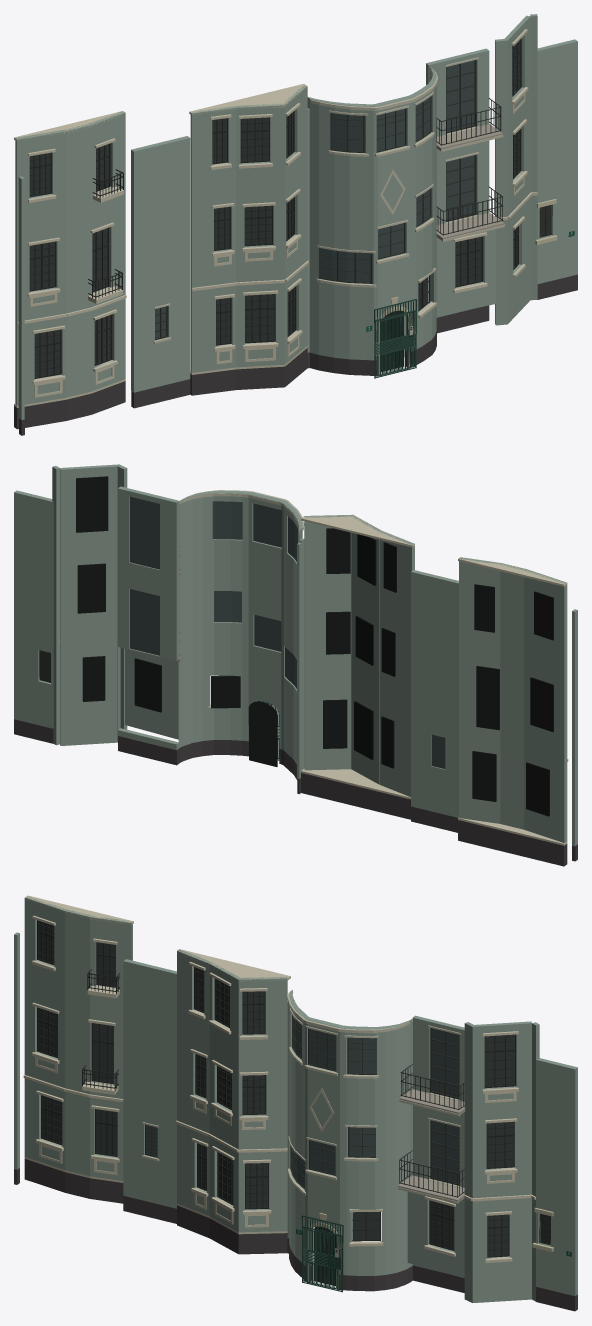
The model's file is lod-source.glb.
3 renders of one model, top to bottom at view 1: azimuth 30°, elevation 25°; view 2: azimuth 150°, elevation 25°; view 3: azimuth 330°, elevation 25°, orthographic. The views are drawn at different scales.
Visible parts, largest first — view 1: 延庆路2号浅绿住宅与弧形楼梯间; view 2: 延庆路2号浅绿住宅与弧形楼梯间; view 3: 延庆路2号浅绿住宅与弧形楼梯间.
Boxes of the visible parts, box(x1,y1,x2,y2) form: 延庆路2号浅绿住宅与弧形楼梯间: box(14, 14, 577, 435); 延庆路2号浅绿住宅与弧形楼梯间: box(14, 464, 577, 866); 延庆路2号浅绿住宅与弧形楼梯间: box(14, 895, 577, 1311).
Size of the model in its own units: 20.88 by 10.28 by 2.74.
